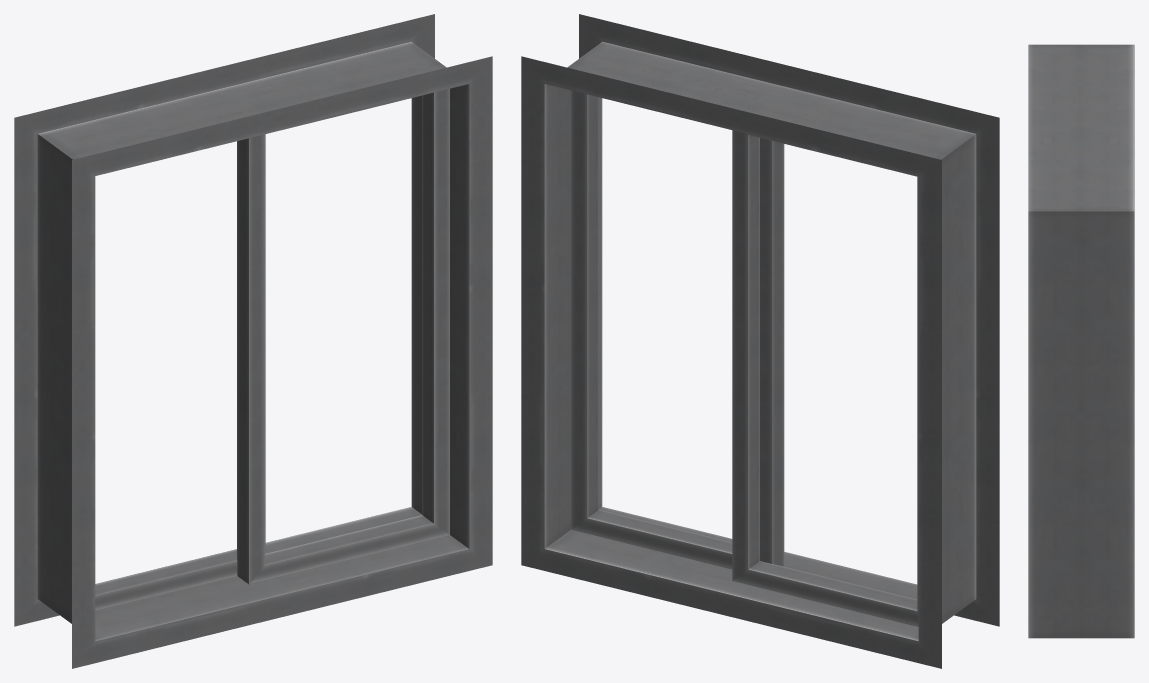
File: window frame tall.FBX
The picture shows the model from 3 angles, left to right: view 1: azimuth 30°, elevation 25°; view 2: azimuth 150°, elevation 25°; view 3: azimuth 270°, elevation 25°; orthographic projection. The views are drawn at different scales.
Parts seen in each view (by area): view 1: window frame tall; view 2: window frame tall; view 3: window frame tall.
Part boxes in pixels (x1,y1,x2,y2): window frame tall: (14,14,492,668); window frame tall: (521,14,999,668); window frame tall: (1028,44,1134,638).
Bounding box in the file's own units: 42.08 × 10 × 48.74.
